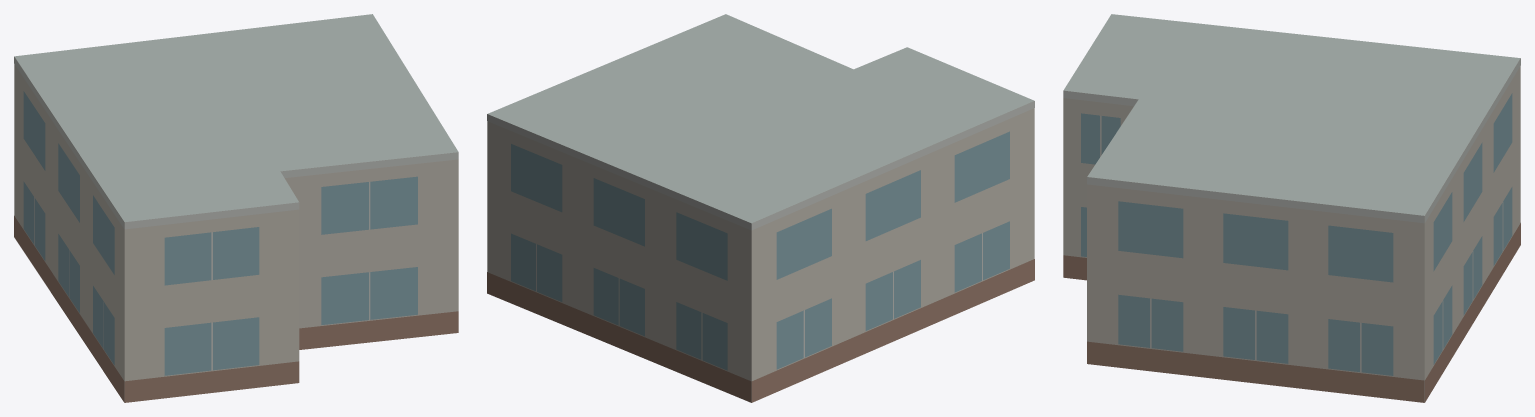
Rendered from survey-upis-32490112.glb.
The picture shows the model from 3 angles, left to right: view 1: azimuth 30°, elevation 25°; view 2: azimuth 150°, elevation 25°; view 3: azimuth 270°, elevation 25°; orthographic projection. The views are drawn at different scales.
Visible parts, largest first — view 1: survey-upis-32490112.tmp; view 2: survey-upis-32490112.tmp; view 3: survey-upis-32490112.tmp.
Boxes of the visible parts, x1=… form: survey-upis-32490112.tmp: x1=14, y1=14, x2=458, y2=402; survey-upis-32490112.tmp: x1=487, y1=14, x2=1034, y2=402; survey-upis-32490112.tmp: x1=1063, y1=14, x2=1520, y2=402.
Size of the model in its own units: 14.13 by 6.1 by 13.53.
